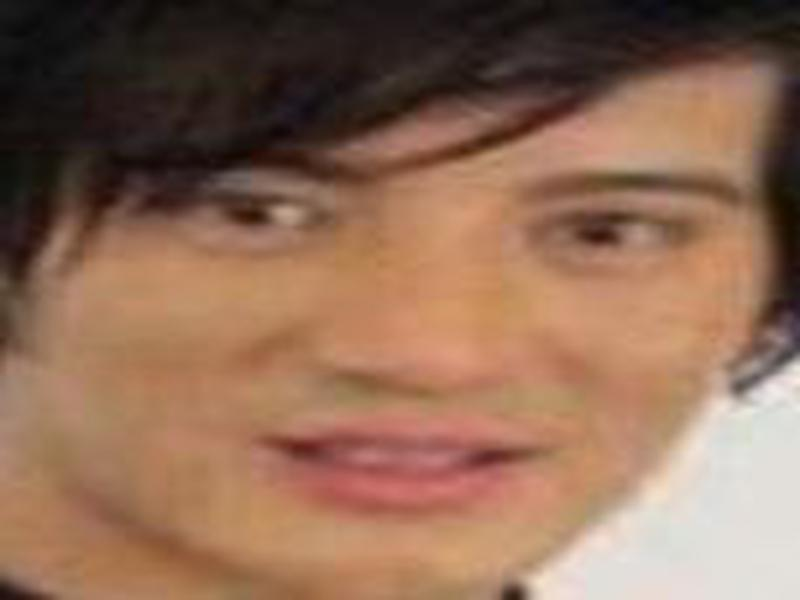without_mask: (46, 40, 772, 593)
